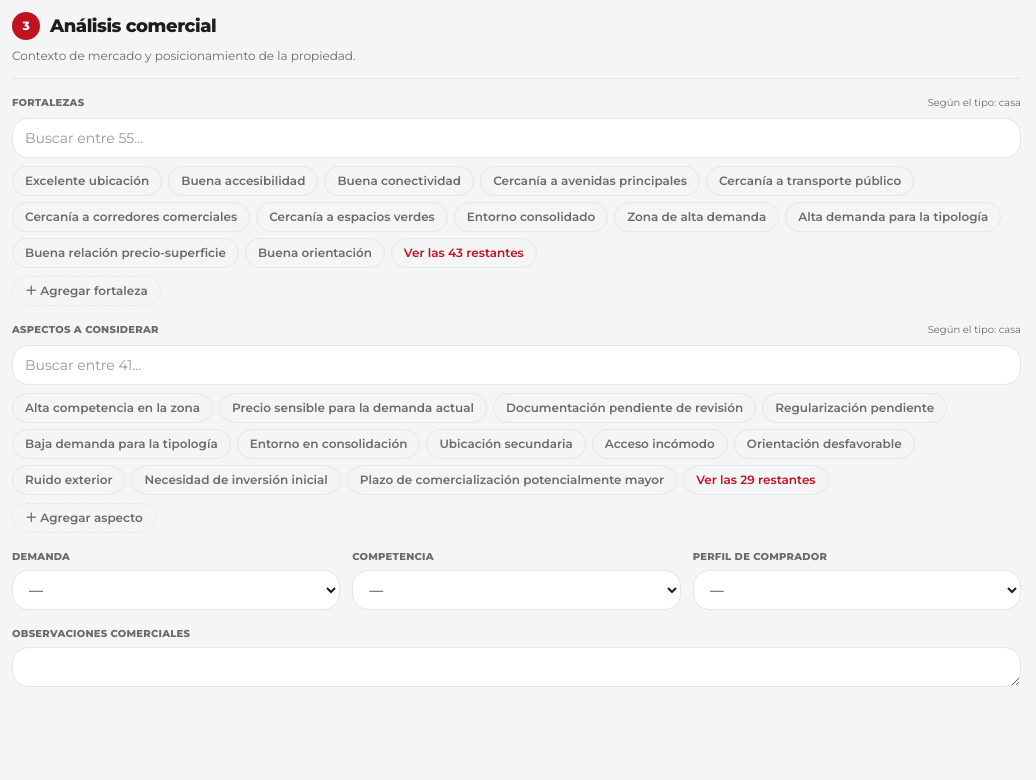
Test: sección 3 — la lista no se come la pantalla del teléfono › buscar muestra todo lo que coincide, aunque esté plegado
Type "piscina" into the search field named "Buscar fortalezas" at point(516, 138), box [12, 118, 1021, 158]
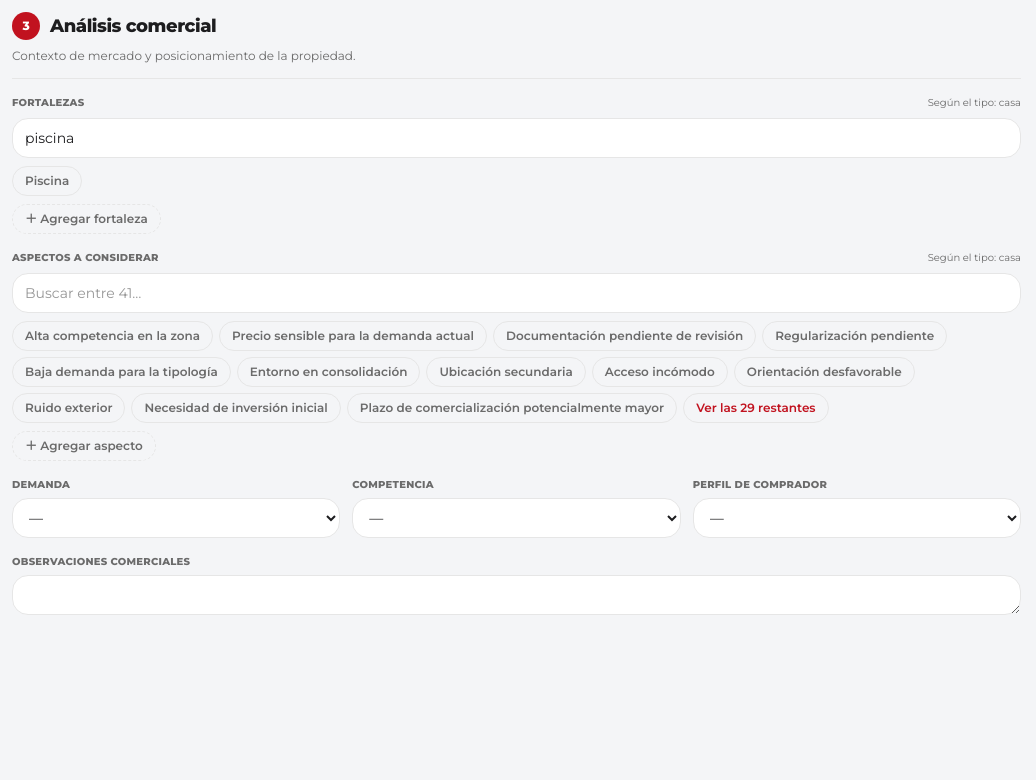
Result: the button "Piscina" is shown at [12, 166, 82, 196]
